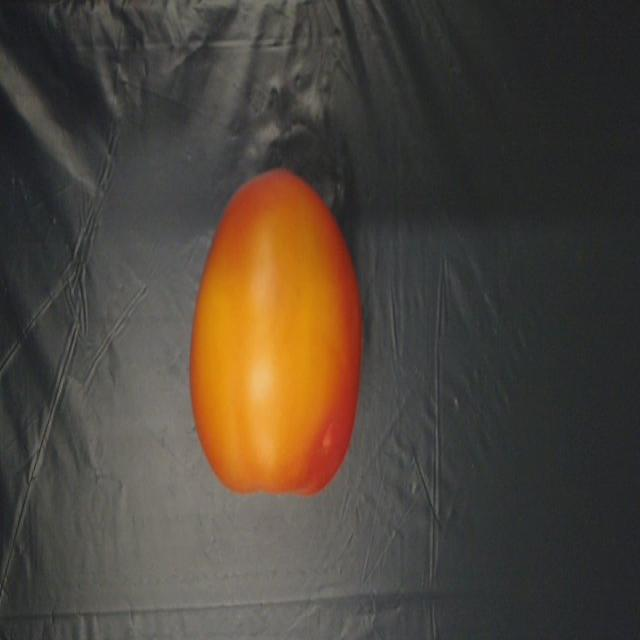sari: (182, 148, 372, 524)
